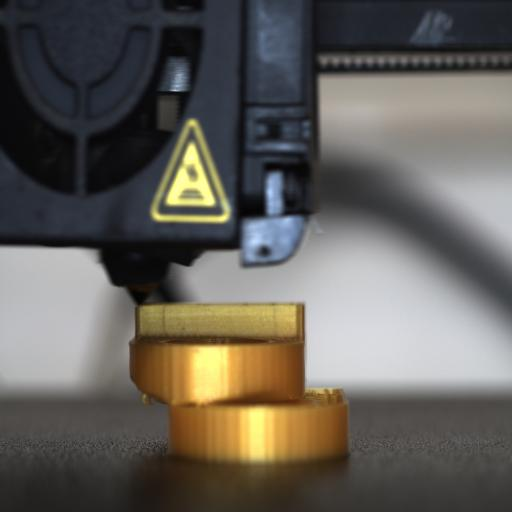layer_shift: (134, 381, 352, 408)
